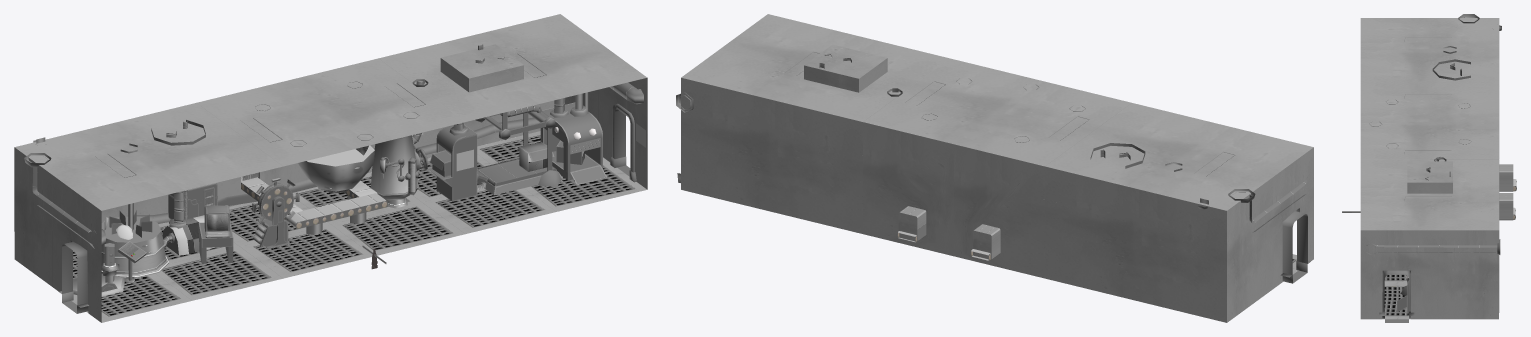
Rendered from MSH_Nuka_room_L3_R3_optimized.fbx.
The picture shows the model from 3 angles, left to right: view 1: azimuth 30°, elevation 25°; view 2: azimuth 150°, elevation 25°; view 3: azimuth 270°, elevation 25°; orthographic projection. The views are drawn at different scales.
Parts seen in each view (by area): view 1: lightmap0, lightmap1, lightmap-1, MSH_Nuka_room_L3_ani_02, MSH_Nuka_room_L3_ani_01; view 2: lightmap0, lightmap1, lightmap-1; view 3: lightmap0, lightmap1, lightmap-1.
Boxes of the visible parts, box(x1,y1,x2,y2) form: lightmap0: box(14, 14, 647, 322); lightmap1: box(24, 44, 645, 296); lightmap-1: box(62, 109, 630, 313); MSH_Nuka_room_L3_ani_02: box(252, 177, 299, 225); MSH_Nuka_room_L3_ani_01: box(109, 203, 152, 237); lightmap0: box(681, 14, 1313, 322); lightmap1: box(676, 52, 1308, 260); lightmap-1: box(1282, 211, 1307, 283); lightmap0: box(1360, 18, 1513, 319); lightmap1: box(1366, 14, 1516, 313); lightmap-1: box(1384, 270, 1409, 322).
Size of the model in its own units: 30.91 by 7.48 by 10.42.
